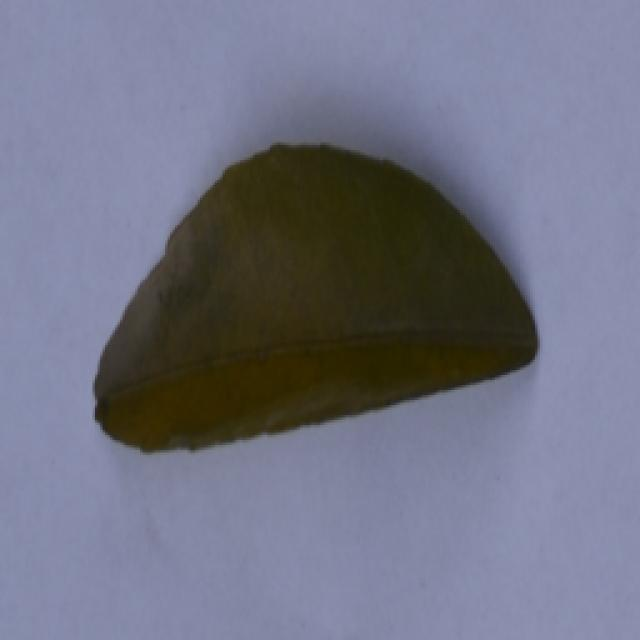greening: (82, 132, 560, 468)
